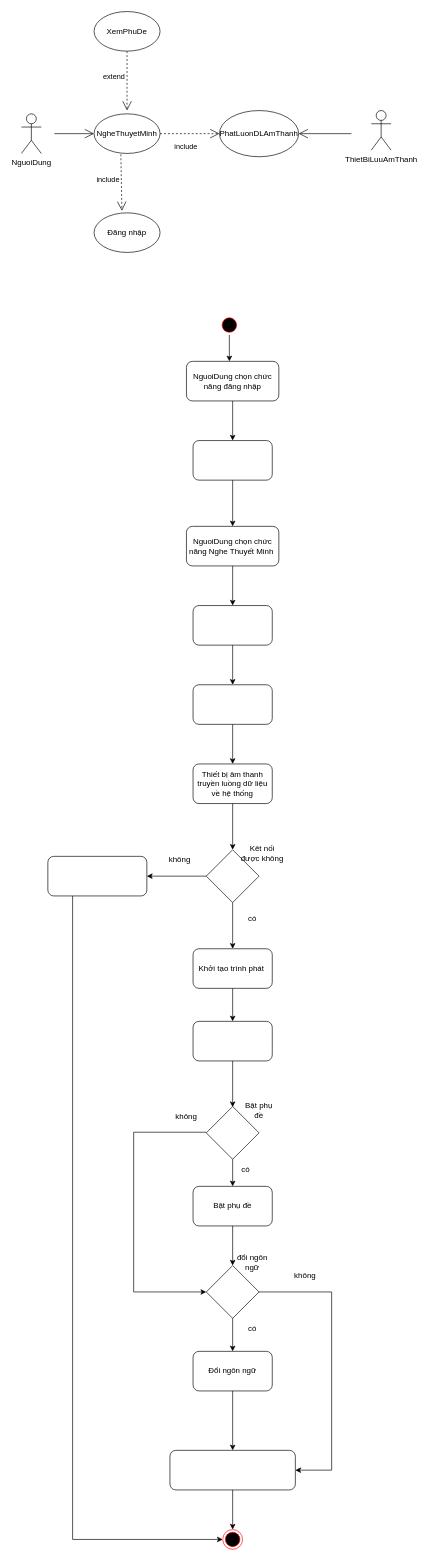
The diagram is 428 pixels wide and 1561 high, and some of its shapes have lost their labels. Each missing label, with the centre of its shape:
Hệ Thống chào mừng đăng nhập cùng với hiển thị chức năng: (x=232, y=460)
Hệ Thống xác định ngôn ngữ người dùng đang chọn: (x=232, y=625)
Hệ Thống yêu cầu lấy tập tin từ Thiết bị âm thanh: (x=232, y=704)
Nghe và điều khiển: (x=232, y=1041)
Nhận thông báo lỗi không thể phát âm thanh và yêu cầu chuyển về đọc văn bản: (x=97, y=876)
Âm thanh kết thúc.. Hệ thống cập nhật lượt nghe và dừng trình phát: (x=232, y=1470)
